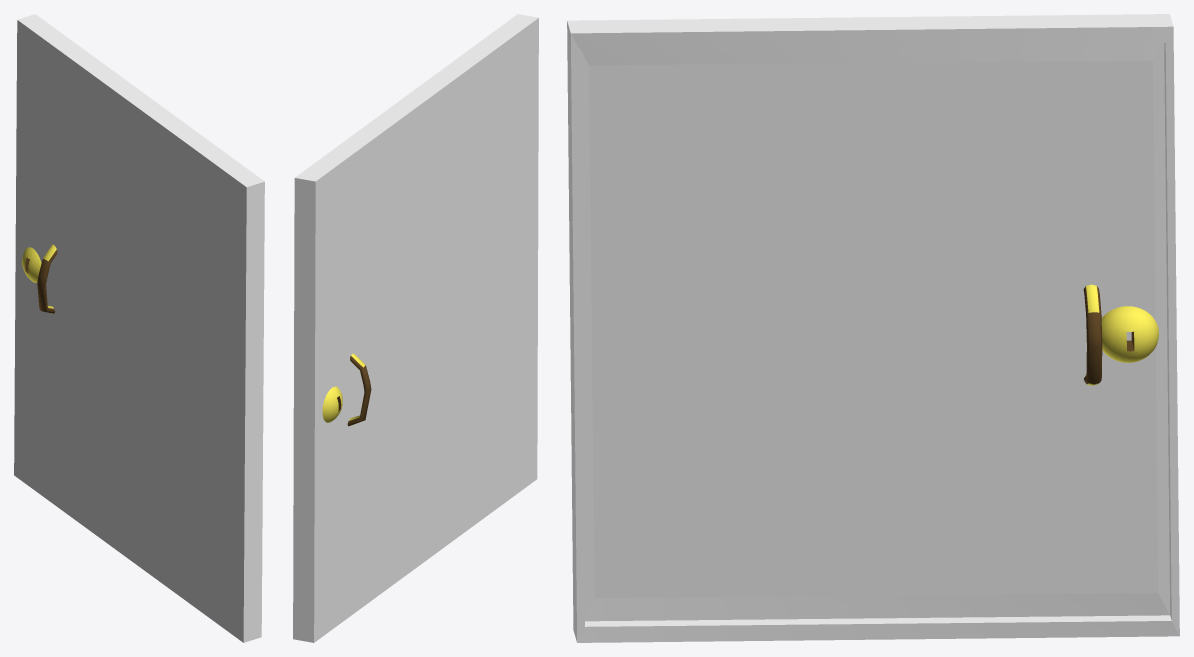
Rendered from men.obj.
3 views of the same model, side by side, from view 1: azimuth 30°, elevation 25°; view 2: azimuth 150°, elevation 25°; view 3: azimuth 270°, elevation 25° (orthographic). The views are drawn at different scales.
Visible parts, largest first — view 1: CG:CG:extrudedSurface8 CG:CG:group1; view 2: CG:CG:extrudedSurface8 CG:CG:group1; view 3: CG:CG:extrudedSurface8 CG:CG:group1.
Boxes of the visible parts, <box> form: CG:CG:extrudedSurface8 CG:CG:group1: <box>14,14,264,642</box>; CG:CG:extrudedSurface8 CG:CG:group1: <box>293,14,538,642</box>; CG:CG:extrudedSurface8 CG:CG:group1: <box>567,14,1179,642</box>.
Bounding box in the file's own units: 0.4257 × 3.17 × 2.87.
